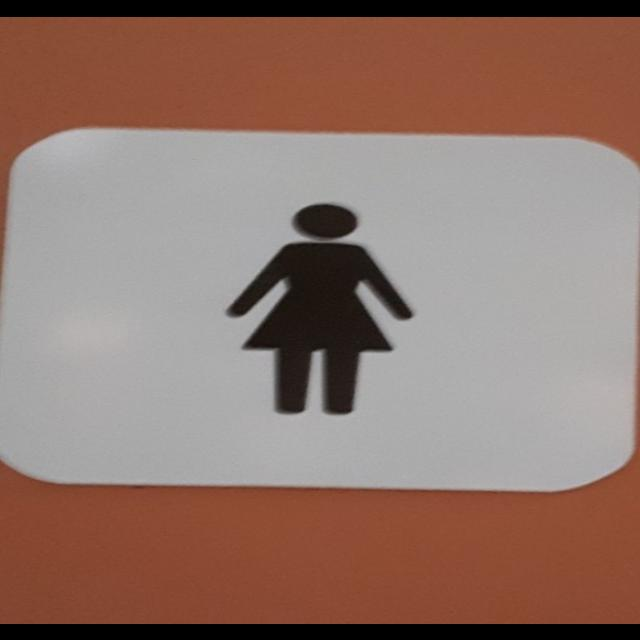womens_restroom: (1, 127, 639, 490)
